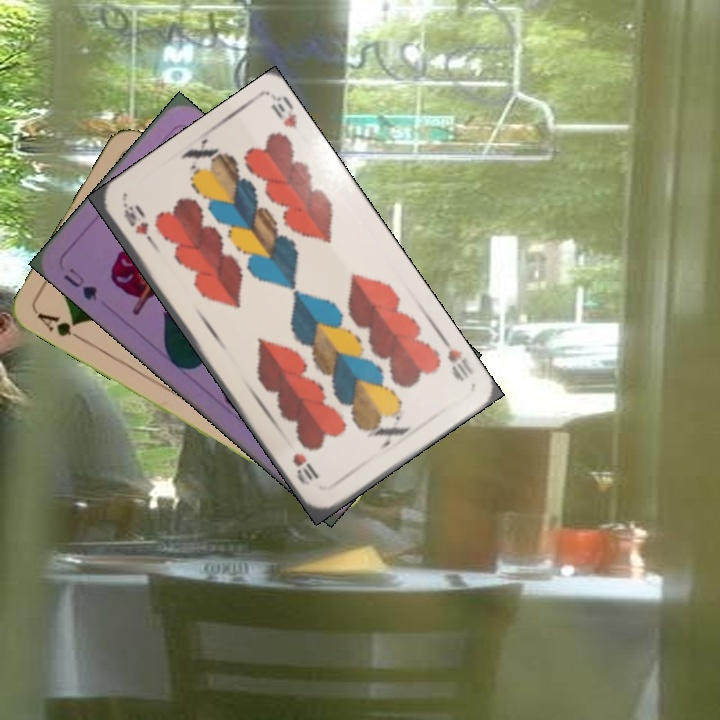GA: (32, 308, 87, 345)
GU: (59, 264, 100, 303)
H10: (119, 200, 161, 252), (437, 332, 477, 384)
